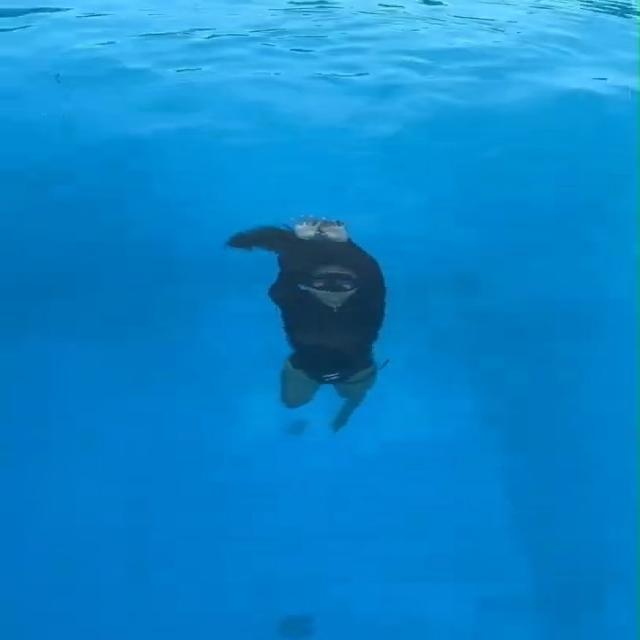Drowning: (218, 216, 412, 435)
